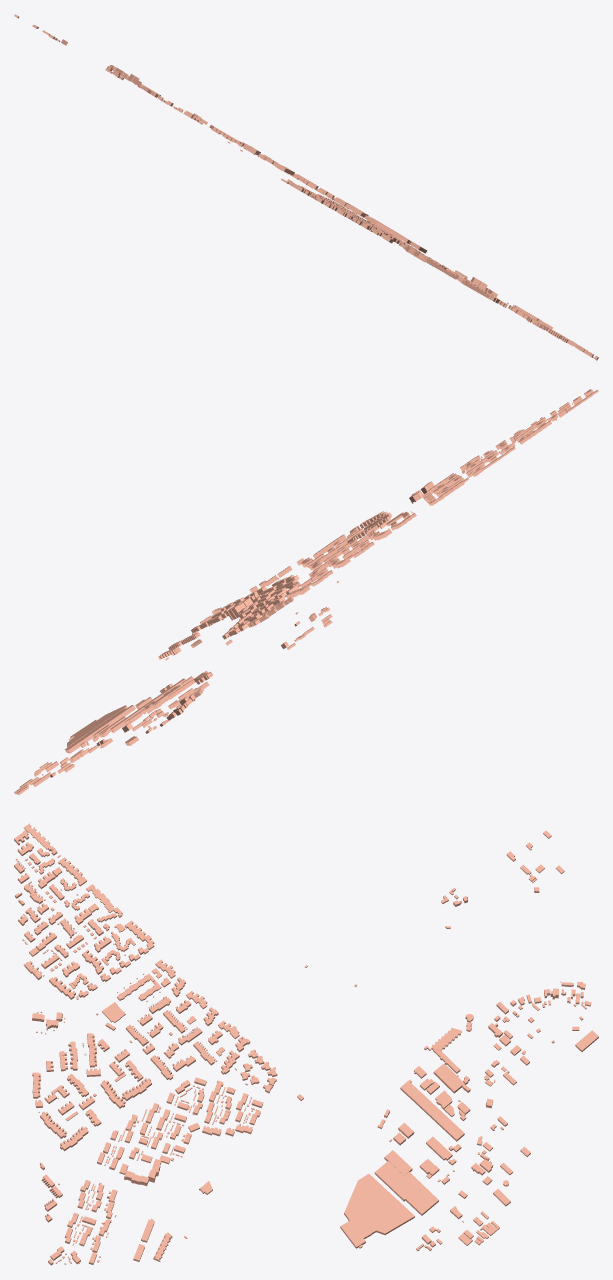
3 views of the same model, one above another, from view 1: azimuth 30°, elevation 25°; view 2: azimuth 150°, elevation 25°; view 3: azimuth 270°, elevation 25° (orthographic). The views are drawn at different scales.
Size of the model in its own units: 876 by 654 by 1244.
